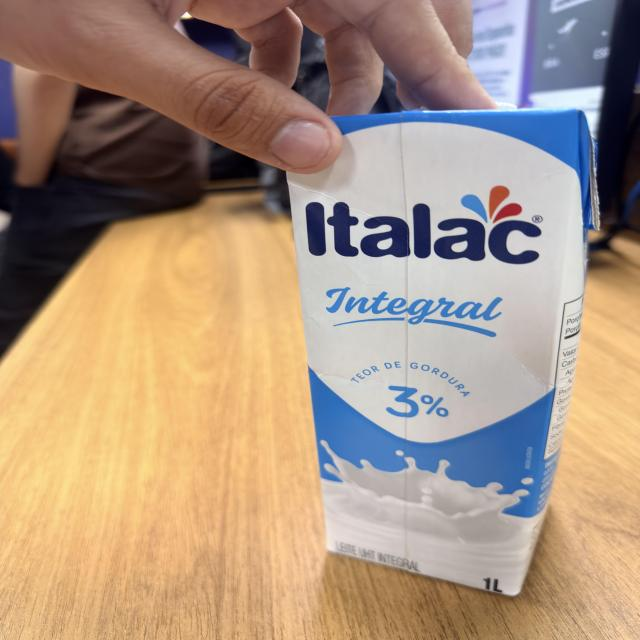Caixa de Leite: (284, 105, 594, 597)
